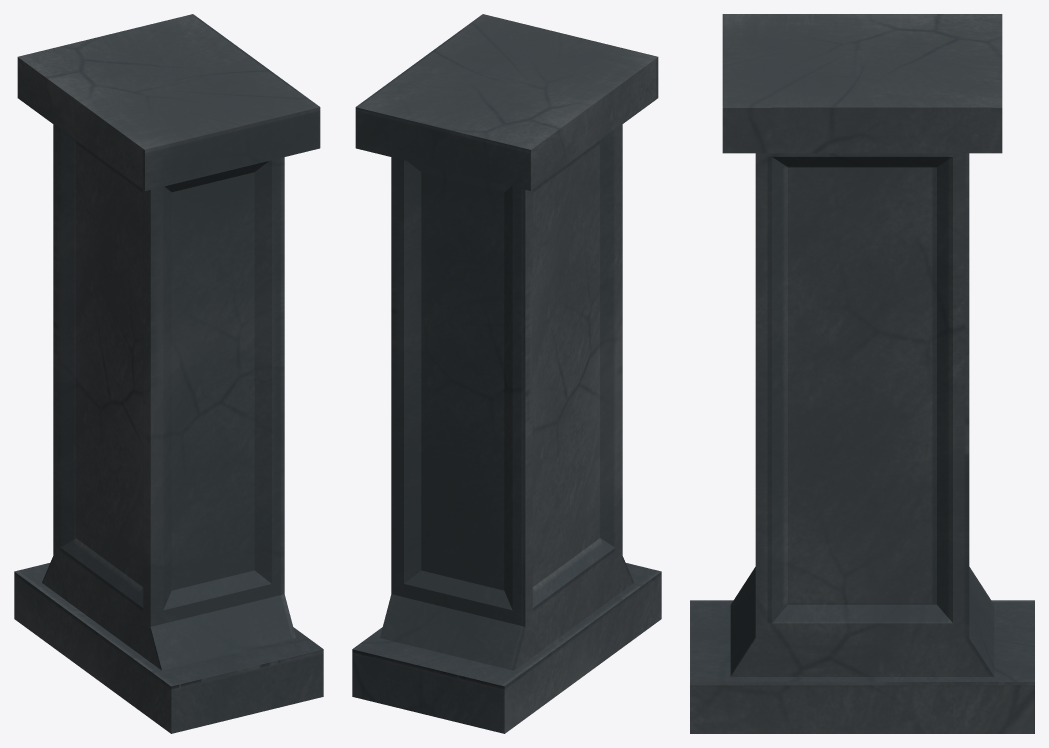
Rendered from Gravestone4_Model.fbx.
3 views of the same model, side by side, from view 1: azimuth 30°, elevation 25°; view 2: azimuth 150°, elevation 25°; view 3: azimuth 270°, elevation 25° (orthographic). The views are drawn at different scales.
Parts seen in each view (by area): view 1: Gravestone4; view 2: Gravestone4; view 3: Gravestone4.
Part boxes in pixels (x1=…): Gravestone4: x1=14, y1=14, x2=323, y2=733; Gravestone4: x1=352, y1=14, x2=661, y2=733; Gravestone4: x1=690, y1=14, x2=1034, y2=733.
Bounding box in the file's own units: 23.32 × 73.08 × 36.14.
